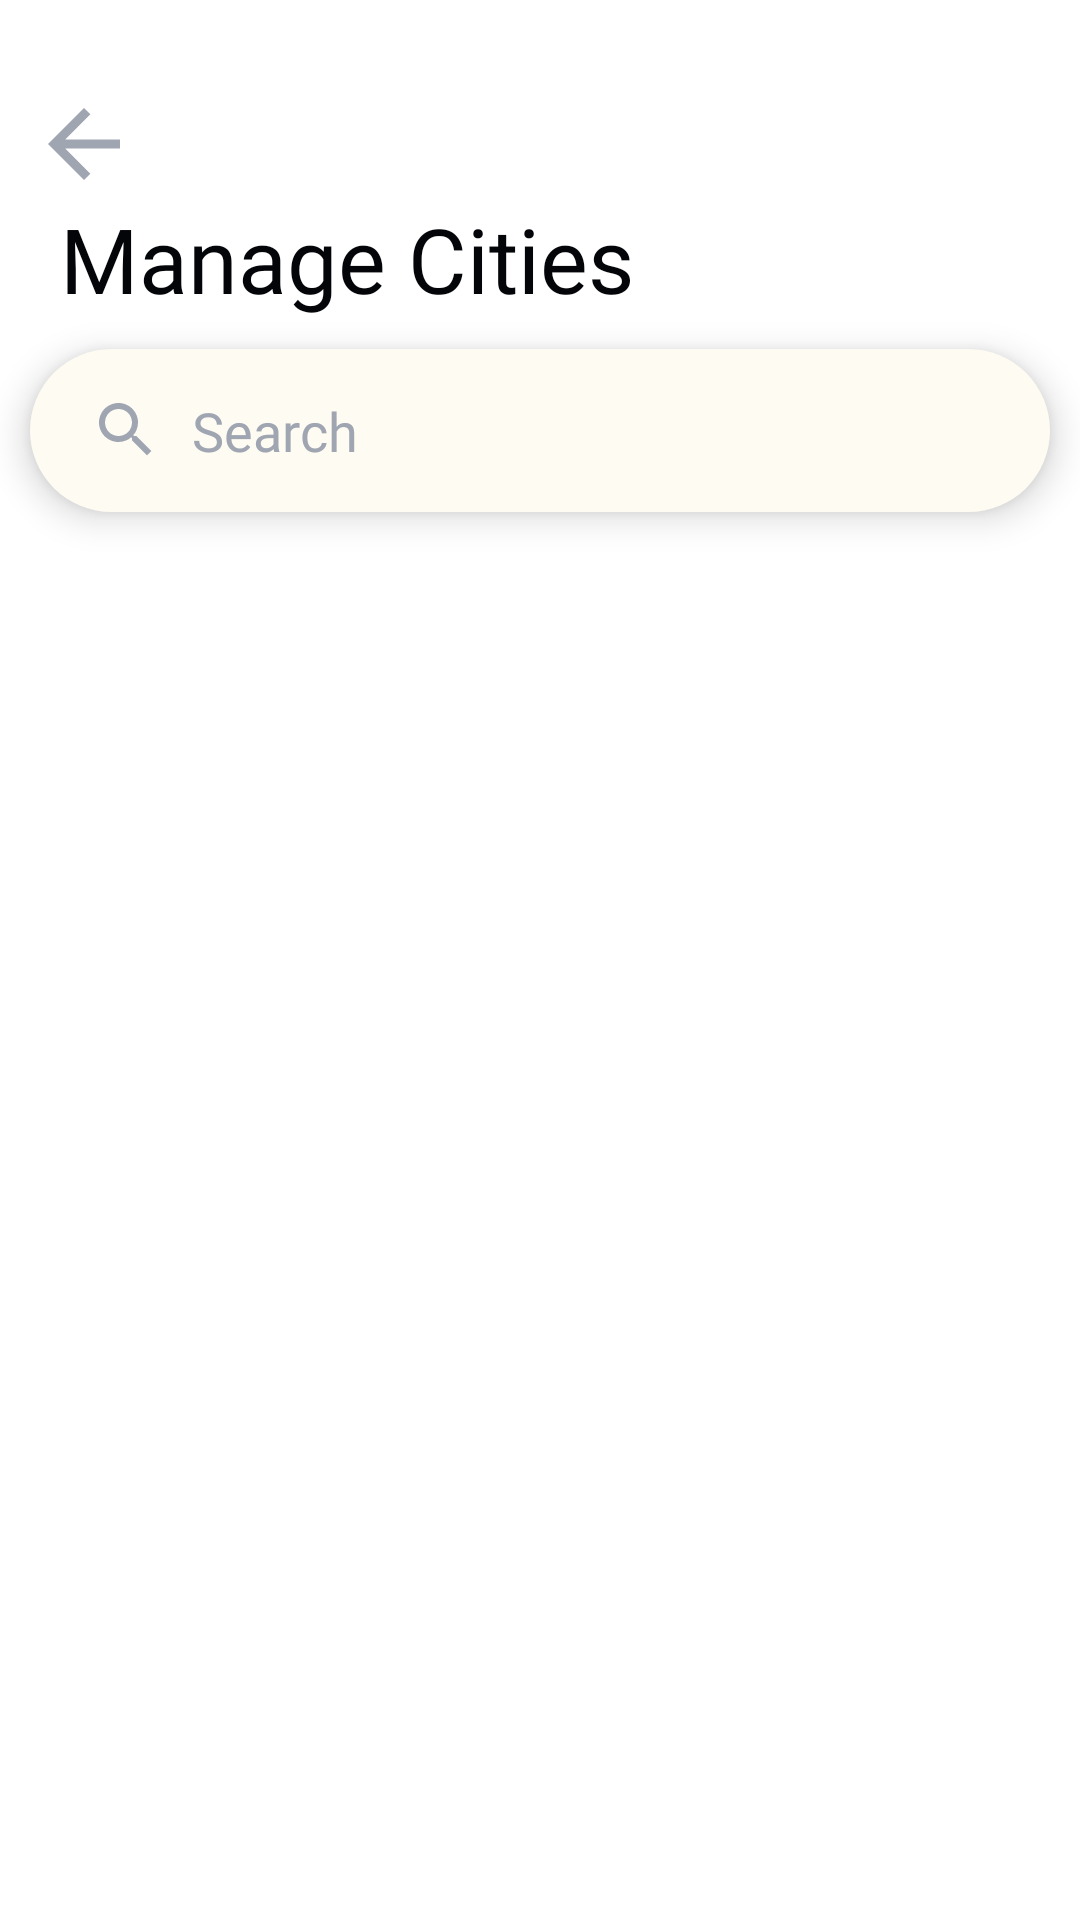

Icon click points for this 1080*1920 phone screenshot, format (x=x, y=y):
arrow back: (x=84, y=144)
